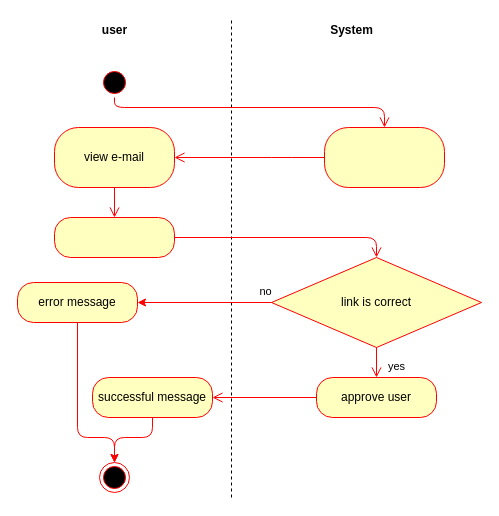
The diagram is 499 pixels wide and 516 high, and some of its shapes have lost their labels. The centre of each missing label's shape, as x and y in pixels:
"click on approve link" belongs at point (114, 237).
"send registration e-mail to user" belongs at point (384, 157).
